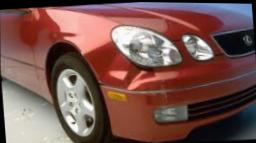Fender: (80, 32, 177, 89)
